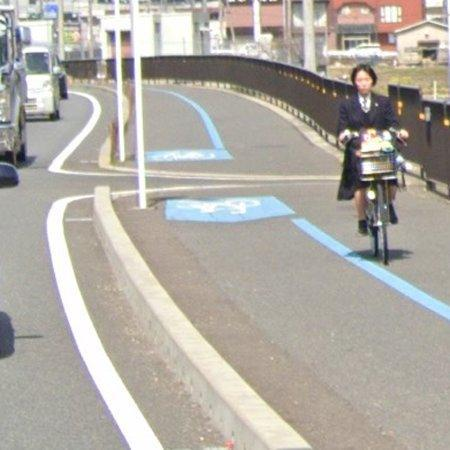bicycles: (357, 128, 398, 266)
